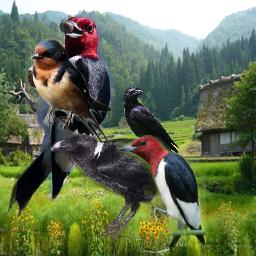Crow: (50, 133, 163, 243), (123, 88, 181, 163)
Swallow: (25, 38, 111, 147)
Woodpecker: (0, 3, 114, 225), (116, 135, 206, 247)
